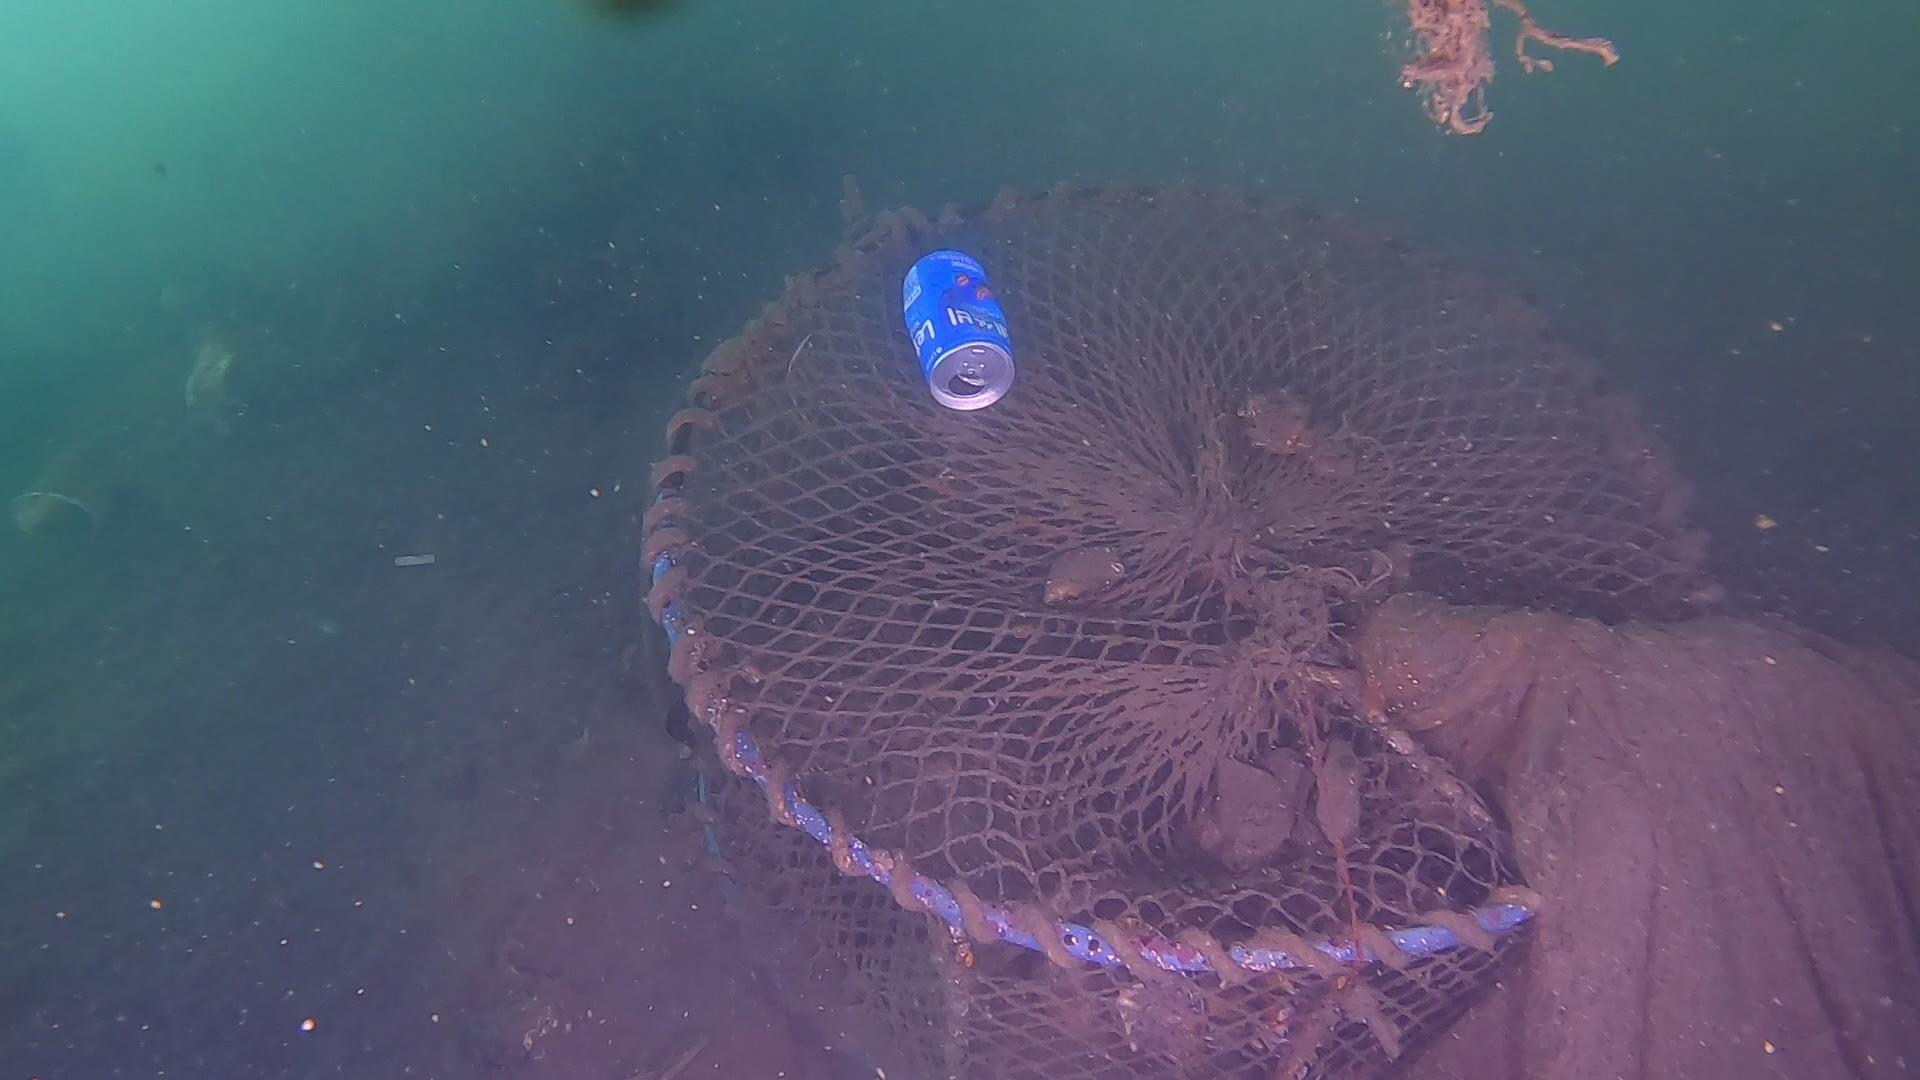circular fish trap: (649, 153, 1735, 1080)
